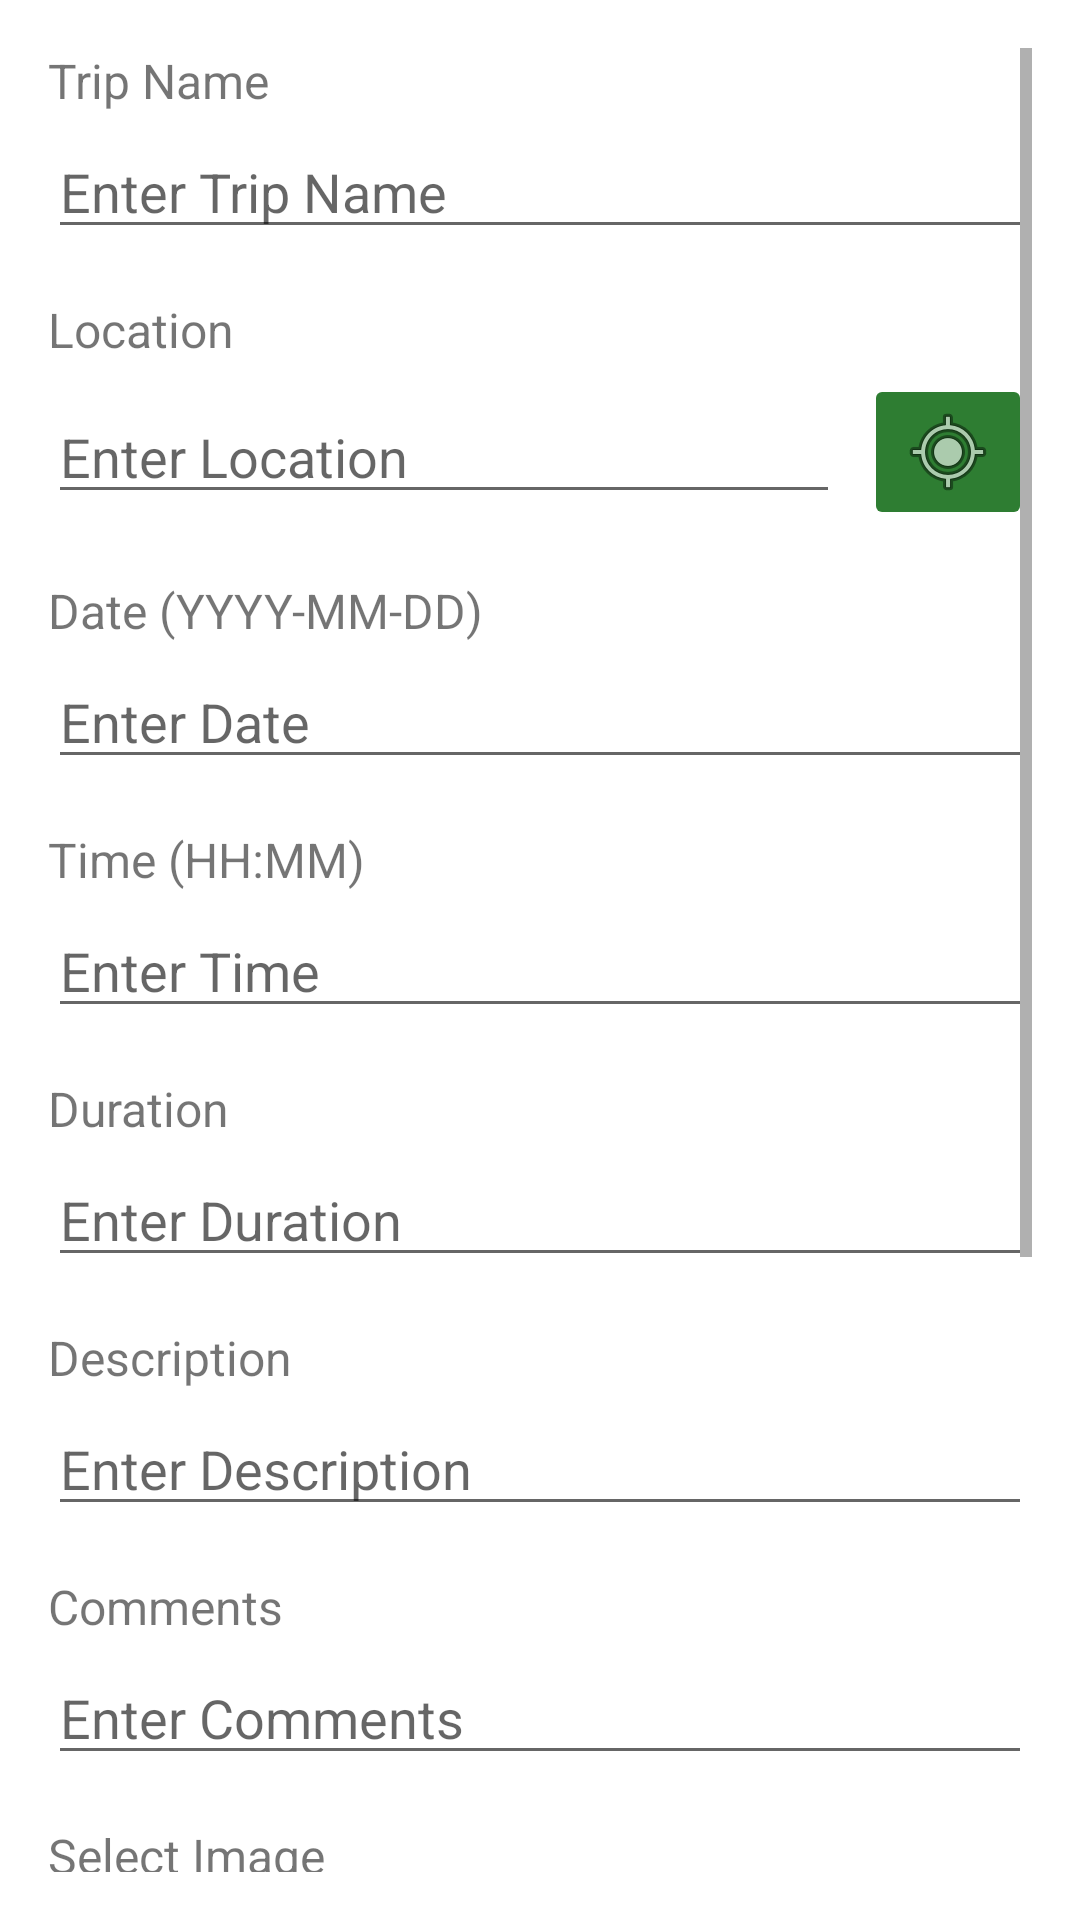

Screen size 1080 × 1920. Icon name, then its box in pixels as (x1, y1, x2, y2):
Get Current Location: (876, 374, 1032, 530)
